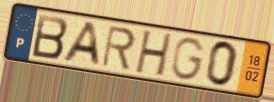0: (203, 40, 243, 88)
A: (59, 20, 103, 69)
B: (30, 12, 70, 61)
G: (170, 36, 208, 83)
H: (133, 29, 175, 79)
R: (100, 24, 138, 73)
